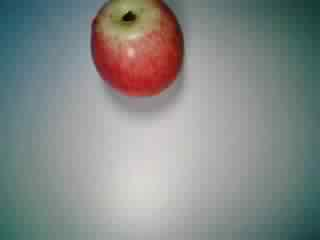apple: (83, 1, 189, 99)
